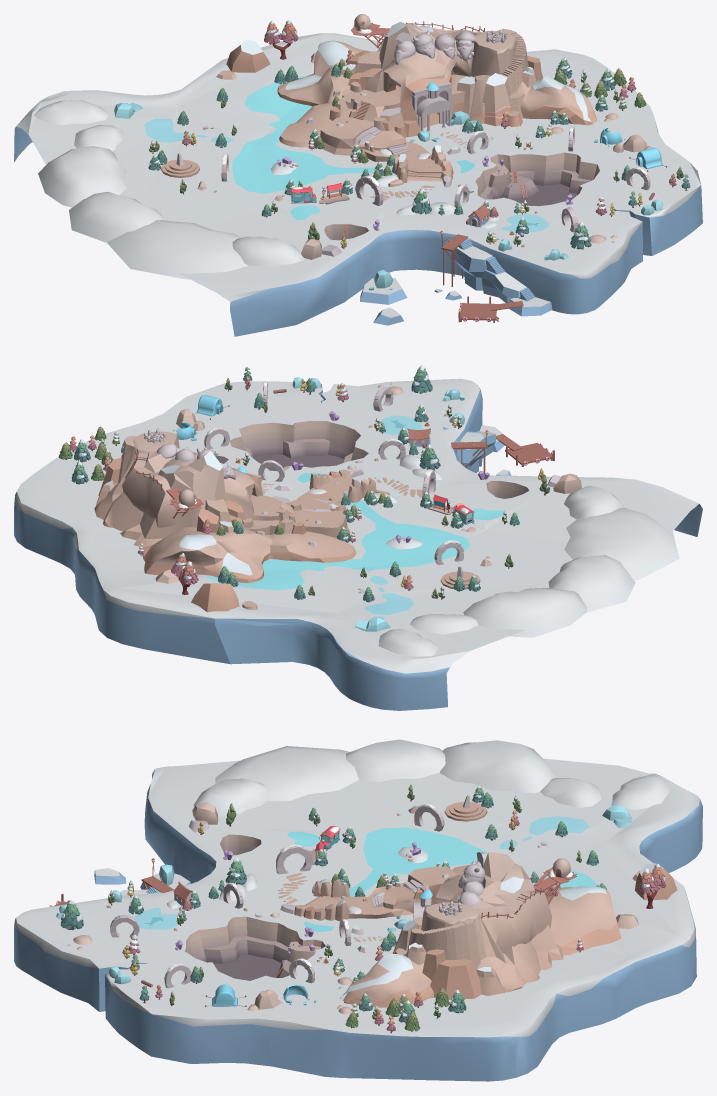
The model's file is Individual_CoralCove_03.fbx.
3 views of the same model, one above another, from view 1: azimuth 30°, elevation 25°; view 2: azimuth 150°, elevation 25°; view 3: azimuth 270°, elevation 25° (orthographic). The views are drawn at different scales.
Visible parts, largest first — view 1: Berg, polySurface2, pasted__SnowPatch18, IceChunks, pasted__SnowPatch20, pasted__SnowPatch19, Rocks, LOOPS, Rushmore, pasted__SnowPatch17, Library, pasted__SnowPatch22 (+6 smaller); view 2: Berg, polySurface2, pasted__SnowPatch18, pasted__SnowPatch20, pasted__SnowPatch19, Rocks, LOOPS, pasted__SnowPatch17, Wood, IceChunks, pasted__SnowPatch22, pasted__SnowPatch21 (+2 smaller); view 3: Berg, polySurface2, pasted__SnowPatch18, pasted__SnowPatch20, pasted__SnowPatch19, Rocks, LOOPS, pasted__SnowPatch17, pasted__SnowPatch22, pasted__SnowPatch21, Rushmore, Ice (+4 smaller).
Boxes of the visible parts, x1=… form: Berg: x1=14, y1=33, x2=702, y2=336; polySurface2: x1=277, y1=22, x2=596, y2=200; pasted__SnowPatch18: x1=107, y1=220, x2=248, y2=279; IceChunks: x1=360, y1=238, x2=552, y2=325; pasted__SnowPatch20: x1=38, y1=146, x2=126, y2=207; pasted__SnowPatch19: x1=69, y1=192, x2=164, y2=242; Rocks: x1=197, y1=39, x2=651, y2=259; LOOPS: x1=221, y1=126, x2=650, y2=232; Rushmore: x1=394, y1=29, x2=476, y2=64; pasted__SnowPatch17: x1=232, y1=236, x2=304, y2=266; Library: x1=411, y1=80, x2=474, y2=149; pasted__SnowPatch22: x1=33, y1=100, x2=108, y2=124; Berg: x1=14, y1=378, x2=702, y2=710; polySurface2: x1=94, y1=431, x2=422, y2=583; pasted__SnowPatch18: x1=564, y1=507, x2=679, y2=580; pasted__SnowPatch20: x1=463, y1=588, x2=587, y2=637; pasted__SnowPatch19: x1=548, y1=555, x2=635, y2=612; Rocks: x1=155, y1=383, x2=581, y2=612; LOOPS: x1=204, y1=381, x2=463, y2=565; pasted__SnowPatch17: x1=564, y1=485, x2=624, y2=519; Wood: x1=451, y1=430, x2=554, y2=474; IceChunks: x1=454, y1=425, x2=584, y2=477; pasted__SnowPatch22: x1=378, y1=629, x2=437, y2=656; pasted__SnowPatch21: x1=410, y1=614, x2=478, y2=634; Berg: x1=14, y1=758, x2=702, y2=1081; polySurface2: x1=278, y1=852, x2=621, y2=1007; pasted__SnowPatch18: x1=215, y1=746, x2=359, y2=800; pasted__SnowPatch20: x1=439, y1=740, x2=557, y2=793; pasted__SnowPatch19: x1=345, y1=739, x2=445, y2=781; Rocks: x1=67, y1=802, x2=677, y2=1014; LOOPS: x1=110, y1=804, x2=444, y2=988; pasted__SnowPatch17: x1=193, y1=778, x2=270, y2=816; pasted__SnowPatch22: x1=611, y1=774, x2=669, y2=809; pasted__SnowPatch21: x1=540, y1=778, x2=601, y2=807; Rushmore: x1=457, y1=852, x2=486, y2=906; Ice: x1=56, y1=805, x2=631, y2=984.
Bounding box in the file's own units: 13289 × 2692 × 12982.
